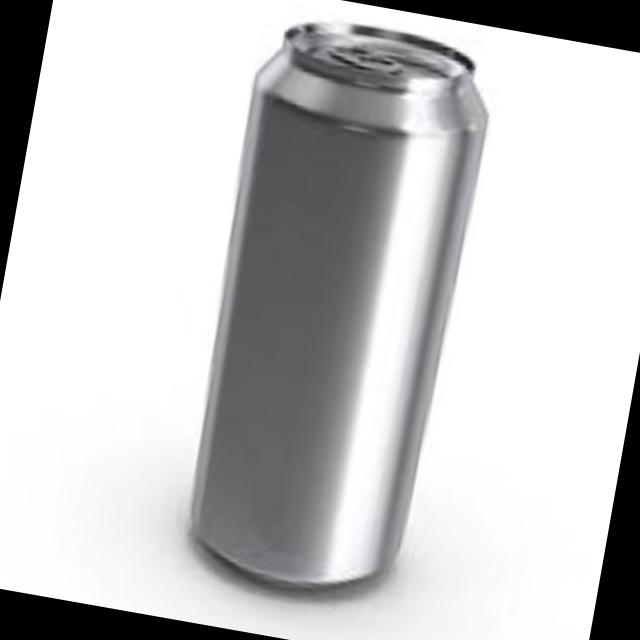metal: (196, 19, 490, 580)
